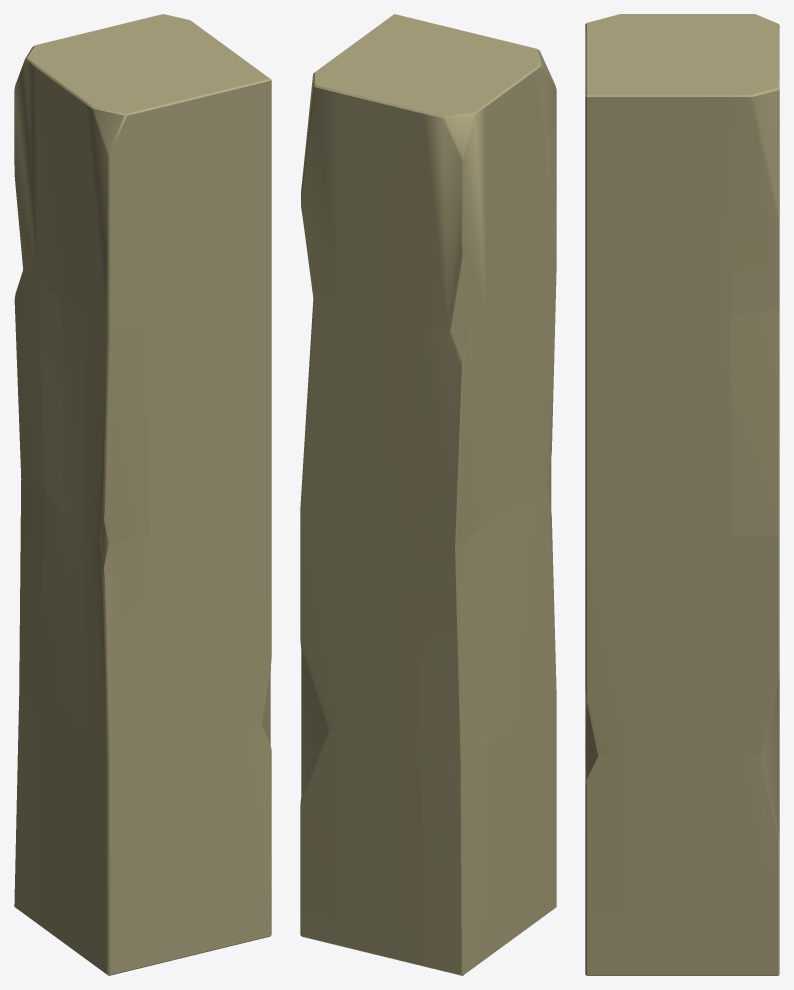
The model's file is pillar.fbx.
3 renders of one model, left to right at view 1: azimuth 30°, elevation 25°; view 2: azimuth 150°, elevation 25°; view 3: azimuth 270°, elevation 25°, orthographic. The views are drawn at different scales.
Visible parts, largest first — view 1: Pillar; view 2: Pillar; view 3: Pillar.
Part boxes in pixels (x1,y1,x2,y2): Pillar: (14, 14, 271, 975); Pillar: (300, 14, 556, 975); Pillar: (585, 14, 779, 975).
Size of the model in its own units: 115 by 576 by 115.
